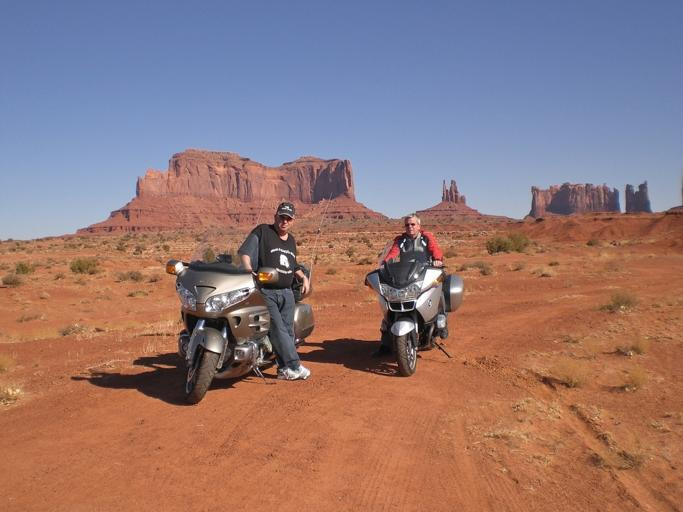non-vehicle: (168, 192, 338, 403), (362, 248, 465, 375)
